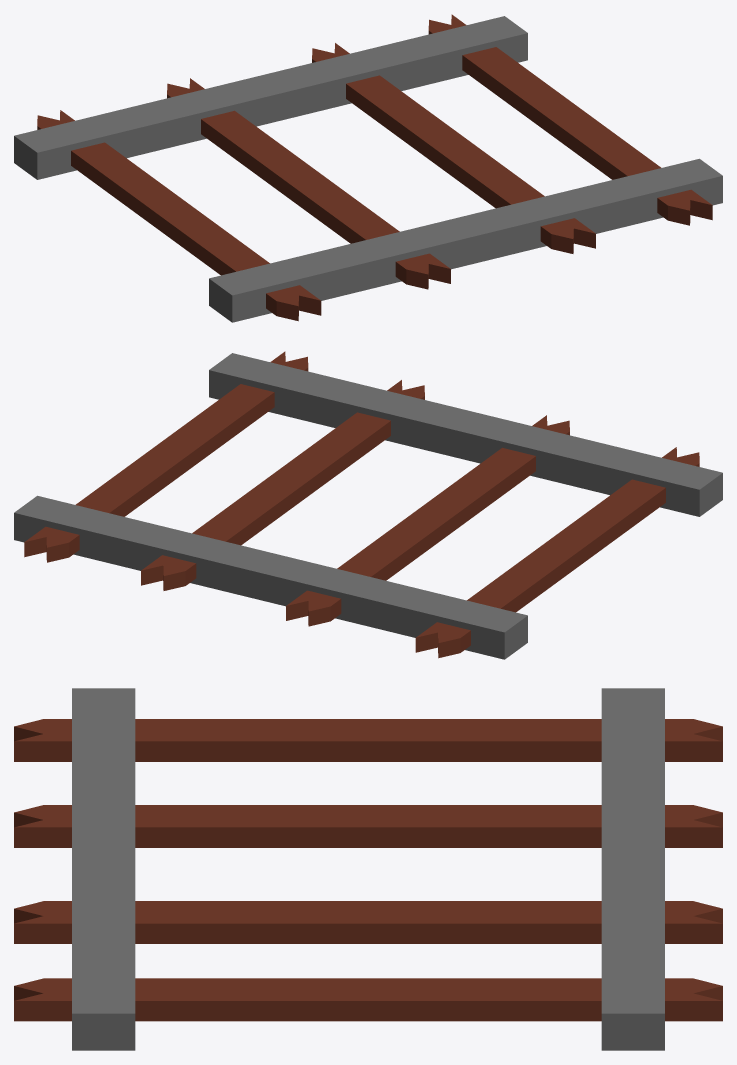
File: viasRectas.fbx
3 renders of one model, top to bottom at view 1: azimuth 30°, elevation 25°; view 2: azimuth 150°, elevation 25°; view 3: azimuth 270°, elevation 25°, orthographic. The views are drawn at different scales.
Visible parts, largest first — view 1: viasTramoRecto; view 2: viasTramoRecto; view 3: viasTramoRecto.
Part boxes in pixels (bbox=[...]): viasTramoRecto: bbox=[14, 14, 722, 322]; viasTramoRecto: bbox=[14, 351, 722, 659]; viasTramoRecto: bbox=[14, 688, 722, 1050].
Size of the model in its own units: 391 by 20.77 by 360.
